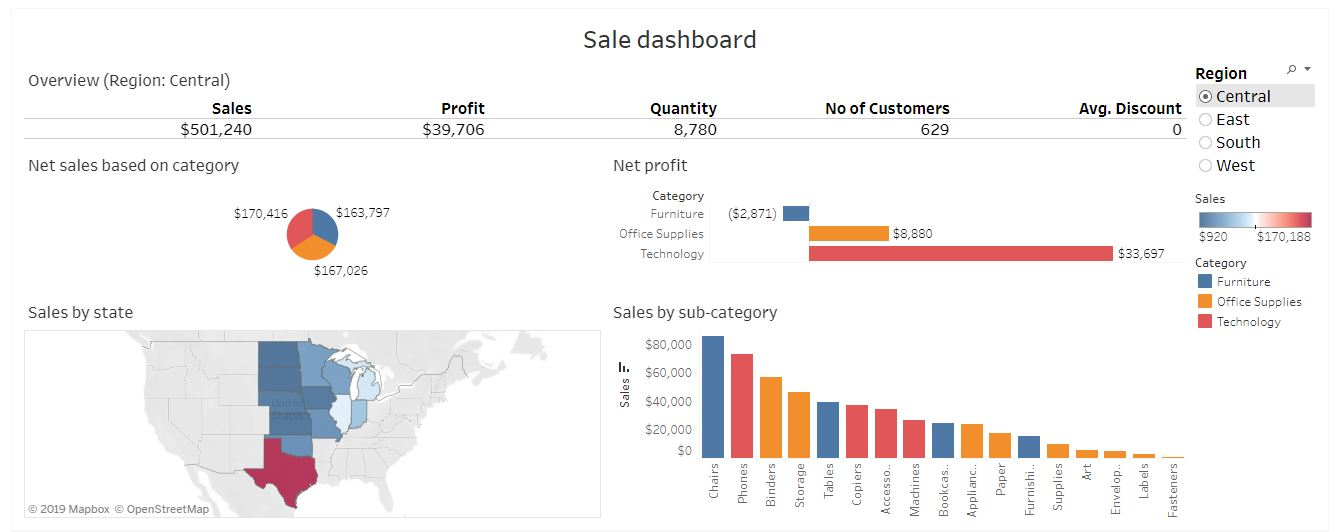

This screenshot's page, from the dashboard's own definition file:
{"tool":"tableau","page":{"name":"Dashboard 1","canvas":[1000,1000],"units":"permille","ordinal":0},"visuals":[{"type":"title","box":[6.9,13.5,986.1,69.2]},{"type":"worksheet","title":"Sheet 1","mark":"Automatic","box":[6.9,82.8,874.5,165.8]},{"type":"filter","title":"Sheet 1","param":"[federated.1gcqjmt0simina14lewc61xcpzc0].[none:Region:nk]","box":[881.4,82.8,111.7,224.7]},{"type":"worksheet","title":"Sheet 3","mark":"Pie","box":[6.9,248.6,437.2,286]},{"type":"worksheet","title":"Sheet 4","mark":"Automatic","rows":["Category"],"cols":["Profit"],"box":[444.1,248.6,437.2,286]},{"type":"legend","title":"Sheet 1 (2)","param":"[federated.1gcqjmt0simina14lewc61xcpzc0].[sum:Sales:qk]","box":[881.4,307.4,111.7,109.8]},{"type":"legend","title":"Sheet 5","param":"[federated.1gcqjmt0simina14lewc61xcpzc0].[none:Category:nk]","box":[881.4,417.2,111.7,145.3]},{"type":"worksheet","title":"Sheet 1 (2)","mark":"Automatic","box":[6.9,534.6,437.2,451.9]},{"type":"worksheet","title":"Sheet 5","mark":"Automatic","rows":["Sales"],"cols":["Sub-Category"],"box":[444.1,534.6,437.2,451.9]}]}

Visuals, with their boxes on the dashboard's canvas, which has no fixed pixel size, in thousandths of its width and height (x1, y1, x2, y2). These are canvas units, not pixel positions in the 1337x532 screenshot, which may show the page scaled, cropped or inside an application window:
title: box(7, 14, 993, 83)
"Sheet 1" worksheet: box(7, 83, 881, 249)
"Sheet 1" filter: box(881, 83, 993, 308)
"Sheet 3" worksheet (Pie marks): box(7, 249, 444, 535)
"Sheet 4" worksheet: box(444, 249, 881, 535)
"Sheet 1 (2)" legend: box(881, 307, 993, 417)
"Sheet 5" legend: box(881, 417, 993, 562)
"Sheet 1 (2)" worksheet: box(7, 535, 444, 986)
"Sheet 5" worksheet: box(444, 535, 881, 986)
